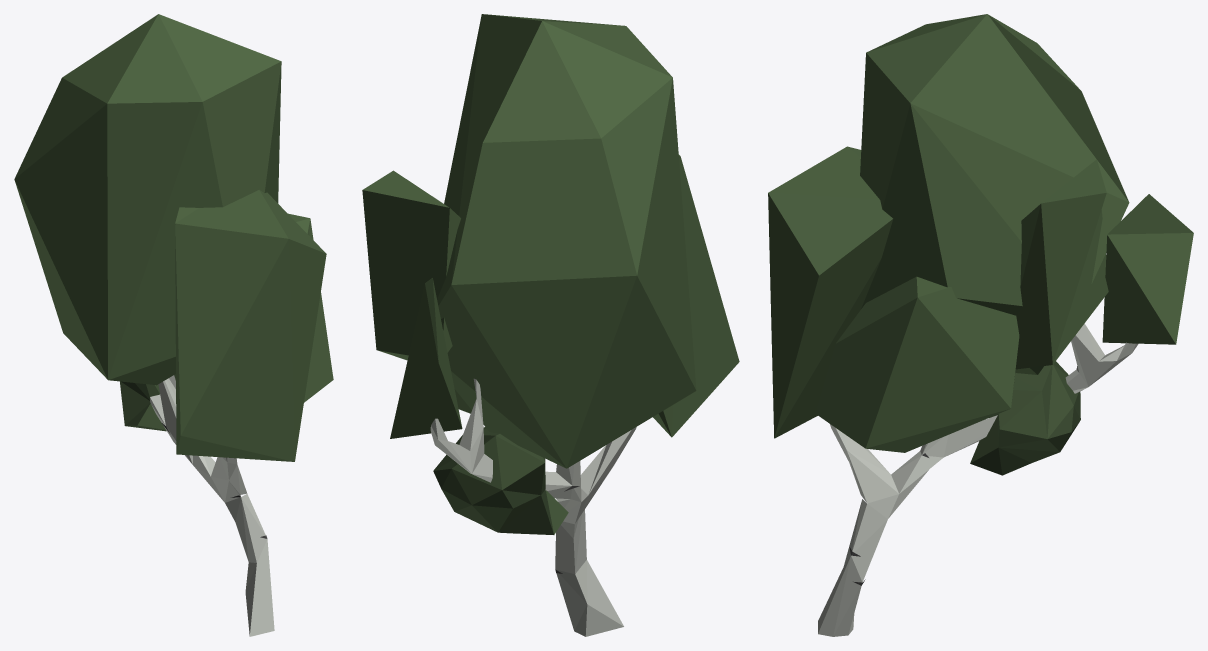
Rendered from qn_birch_a.glb.
3 renders of one model, left to right at view 1: azimuth 30°, elevation 25°; view 2: azimuth 150°, elevation 25°; view 3: azimuth 270°, elevation 25°, orthographic. The views are drawn at different scales.
Parts seen in each view (by area): view 1: qn_birch_a; view 2: qn_birch_a; view 3: qn_birch_a.
Boxes of the visible parts, box(x1,y1,x2,y2) form: qn_birch_a: box(14, 14, 333, 636); qn_birch_a: box(362, 14, 739, 636); qn_birch_a: box(768, 14, 1193, 636).
Bounding box in the file's own units: 1.52 × 3.57 × 2.29.
